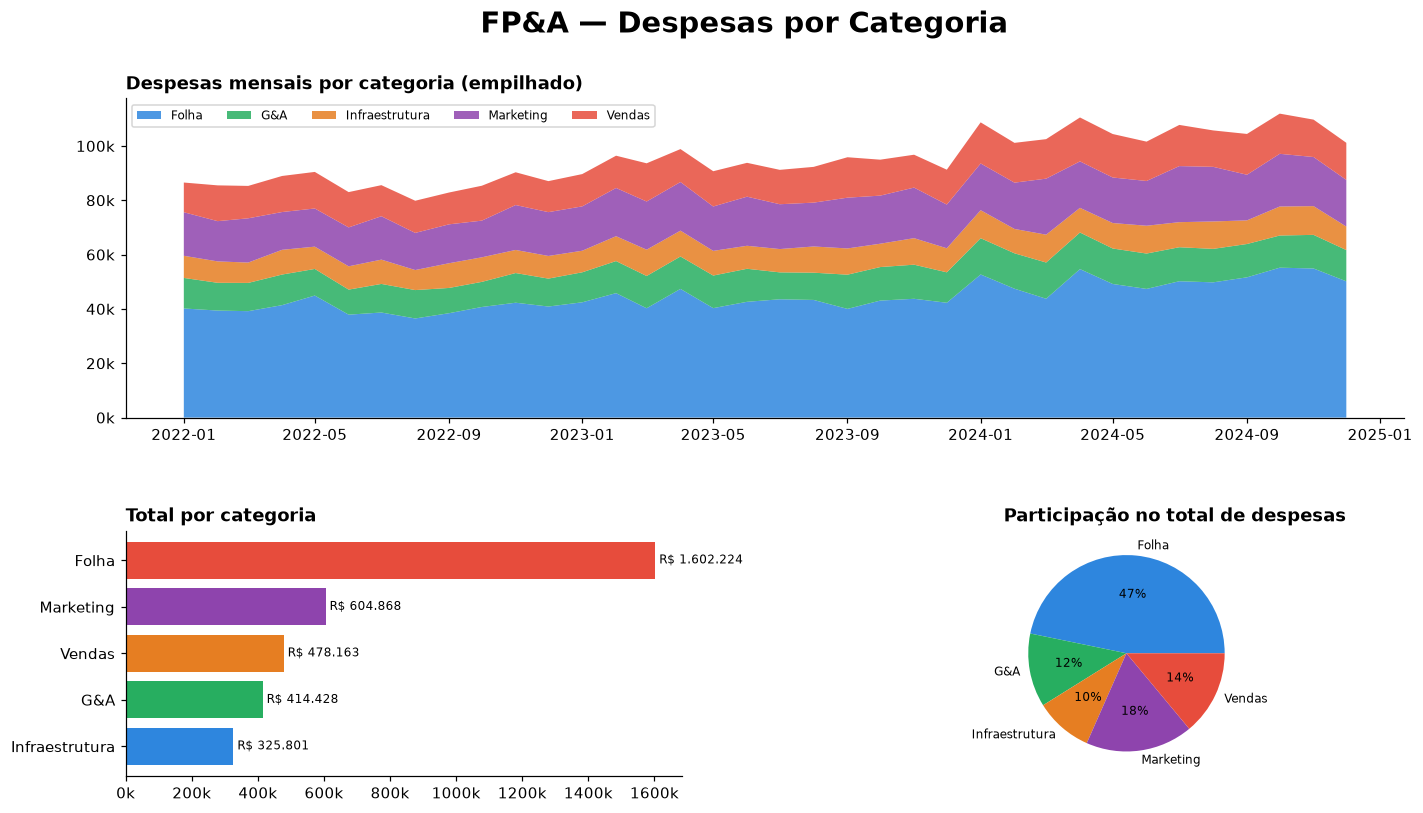

The page's visual inventory and layout, read from the dashboard file:
{"tool":"powerbi","page":{"name":"Despesas","canvas":[1280,720],"ordinal":2},"visuals":[{"type":"stackedAreaChart","fields":{"Series":["despesas.categoria_despesa"],"Y":["Sum(despesas.valor)"],"Category":["despesas.data.Variation.Hierarquia de datas.Ano"]},"box":[10,112,1270,289],"z":0},{"type":"clusteredBarChart","fields":{"Y":["Sum(despesas.valor)"],"Category":["despesas.categoria_despesa"]},"box":[10,401,630,280],"z":1000},{"type":"barChart","fields":{"Category":["despesas.categoria_despesa"],"Y":["Divide(Sum(despesas.valor), ScopedEval(Sum(despesas.valor), []))"]},"box":[873,401,407,280],"z":2000},{"type":"textbox","box":[423,0,434,52],"z":2001}]}

Visuals, with their boxes in screenshot pixels (x1, y1, x2, y2), scaled from the page's 1280x720 canvas onto the 1423x813 screenshot:
stackedAreaChart - despesas.categoria_despesa x Sum(despesas.valor): bbox=[11, 126, 1422, 453]
clusteredBarChart - Sum(despesas.valor) x despesas.categoria_despesa: bbox=[11, 453, 712, 769]
barChart - despesas.categoria_despesa x Divide(Sum(despesas.valor), ScopedEval(Sum(despesas.valor), [])): bbox=[971, 453, 1422, 769]
textbox: bbox=[470, 0, 953, 59]
